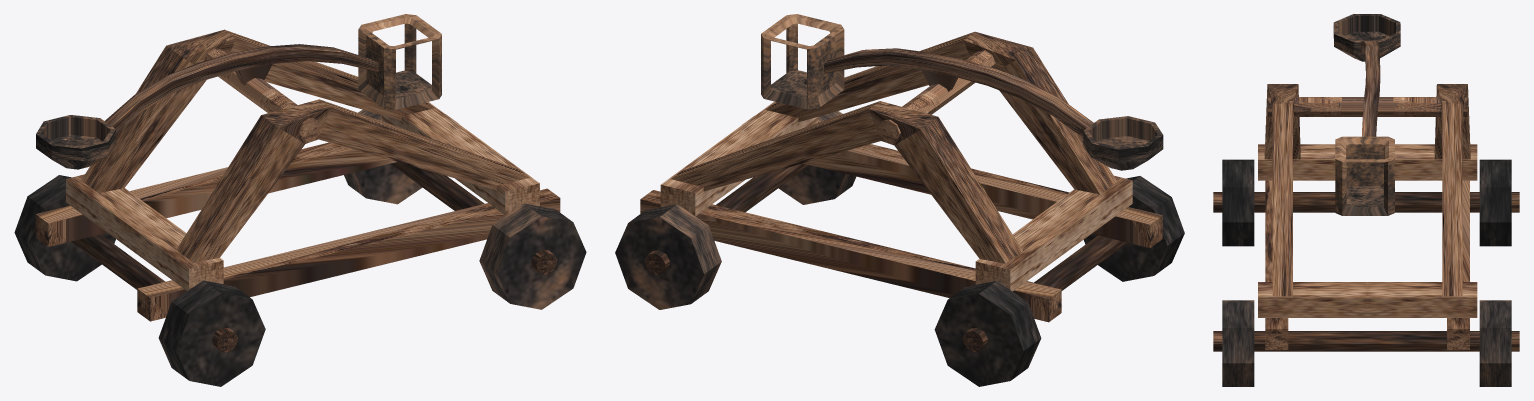
File: catapulta.obj
3 views of the same model, side by side, from view 1: azimuth 30°, elevation 25°; view 2: azimuth 150°, elevation 25°; view 3: azimuth 270°, elevation 25° (orthographic). The views are drawn at different scales.
Parts seen in each view (by area): view 1: Object_4_Material.002; view 2: Object_4_Material.002; view 3: Object_4_Material.002.
Boxes of the visible parts, <box> form: Object_4_Material.002: <box>14,14,586,386</box>; Object_4_Material.002: <box>615,14,1184,386</box>; Object_4_Material.002: <box>1213,14,1519,386</box>.
Bounding box in the file's own units: 10.34 × 5.27 × 6.65.
